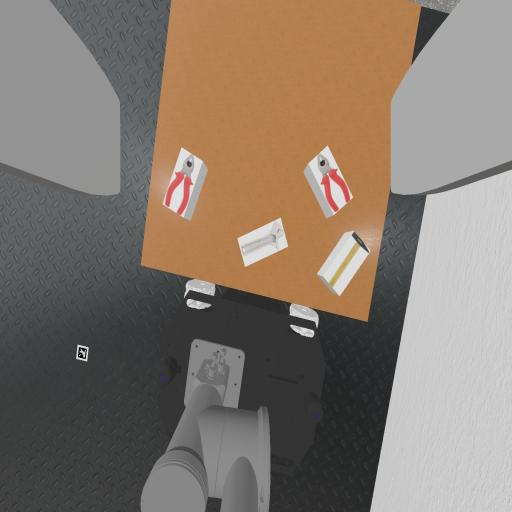hammer: (329, 233, 368, 286)
pliers: (318, 154, 351, 212), (165, 155, 194, 214)
wrench: (242, 222, 283, 255)
